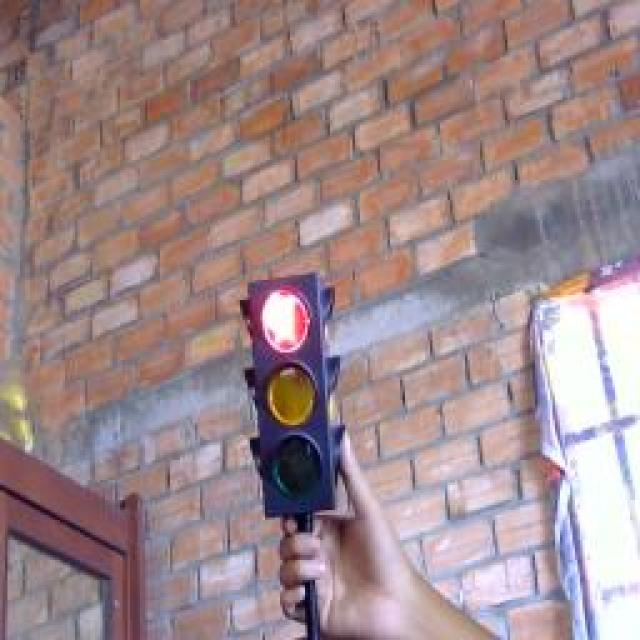-: (254, 285, 319, 357)
